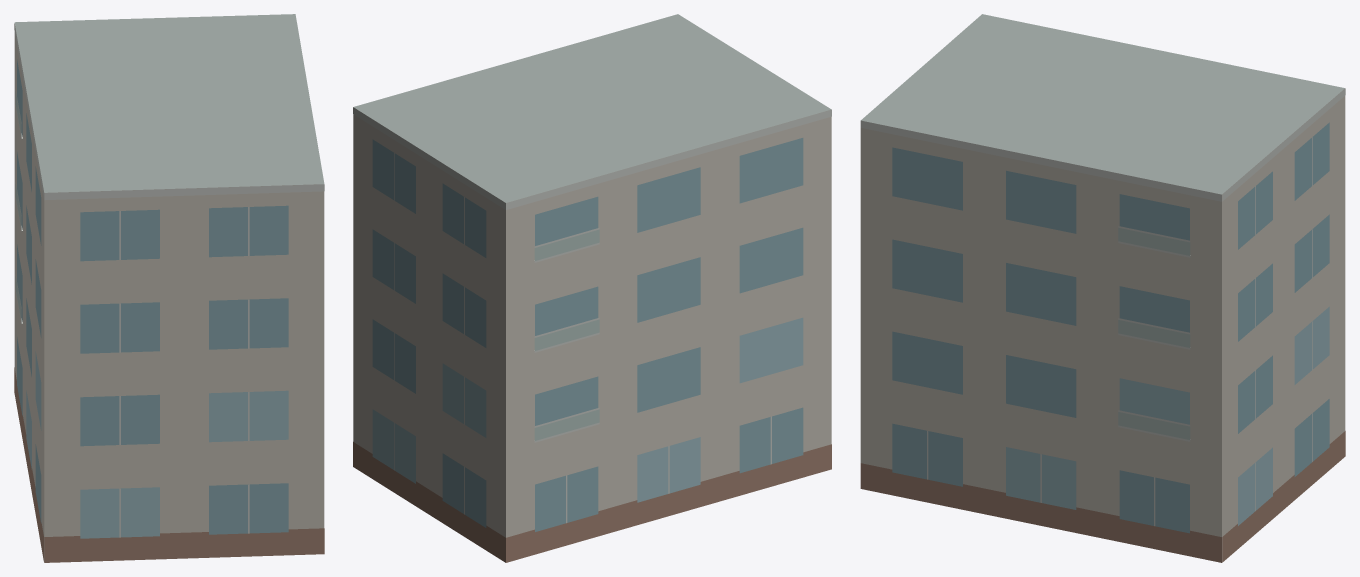
Rendered from survey-upis-32534633.glb.
3 renders of one model, left to right at view 1: azimuth 30°, elevation 25°; view 2: azimuth 150°, elevation 25°; view 3: azimuth 270°, elevation 25°, orthographic. The views are drawn at different scales.
Visible parts, largest first — view 1: survey-upis-32534633.tmp; view 2: survey-upis-32534633.tmp; view 3: survey-upis-32534633.tmp.
Boxes of the visible parts, box(x1,y1,x2,y2) form: survey-upis-32534633.tmp: box(14, 14, 324, 562); survey-upis-32534633.tmp: box(353, 14, 831, 562); survey-upis-32534633.tmp: box(860, 14, 1345, 562).
Bounding box in the file's own units: 13.01 × 12.36 × 14.75.
